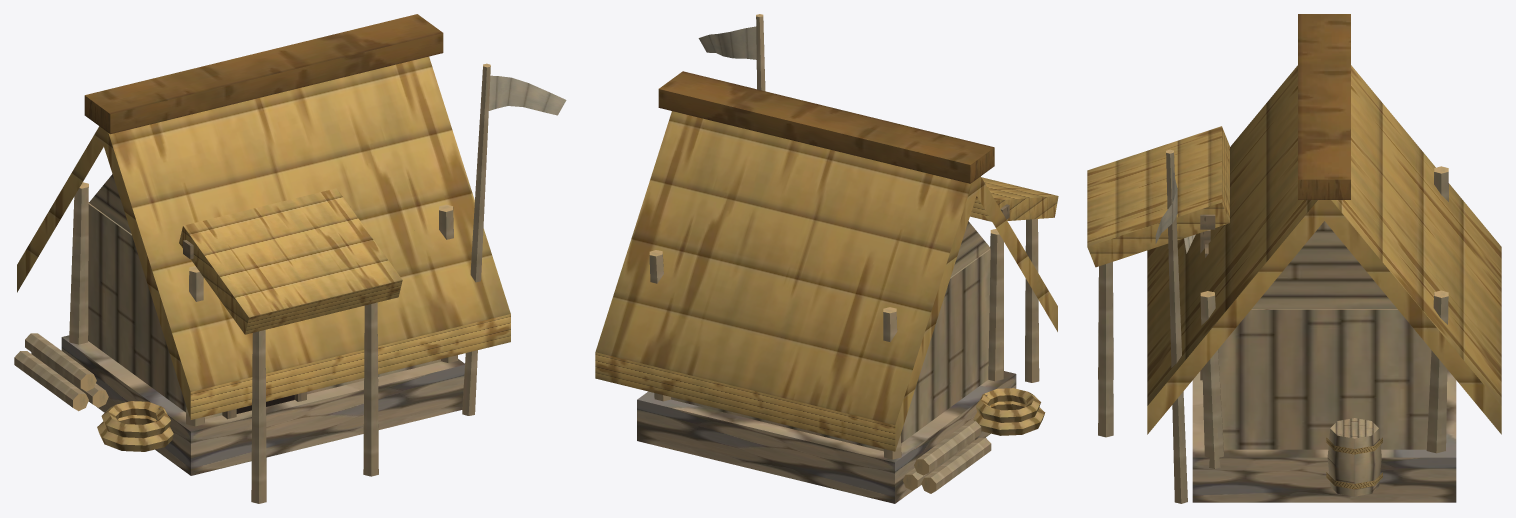
The model's file is hut.glb.
3 renders of one model, left to right at view 1: azimuth 30°, elevation 25°; view 2: azimuth 150°, elevation 25°; view 3: azimuth 270°, elevation 25°, orthographic. The views are drawn at different scales.
Parts seen in each view (by area): view 1: hut; view 2: hut; view 3: hut.
Part boxes in pixels (left/top/right/bottom): hut: left=14, top=14, right=566, bottom=503; hut: left=595, top=14, right=1058, bottom=503; hut: left=1087, top=14, right=1501, bottom=503.
Bounding box in the file's own units: 6.48 × 5.21 × 5.5.
Materials: 4 (4 with a texture image).
